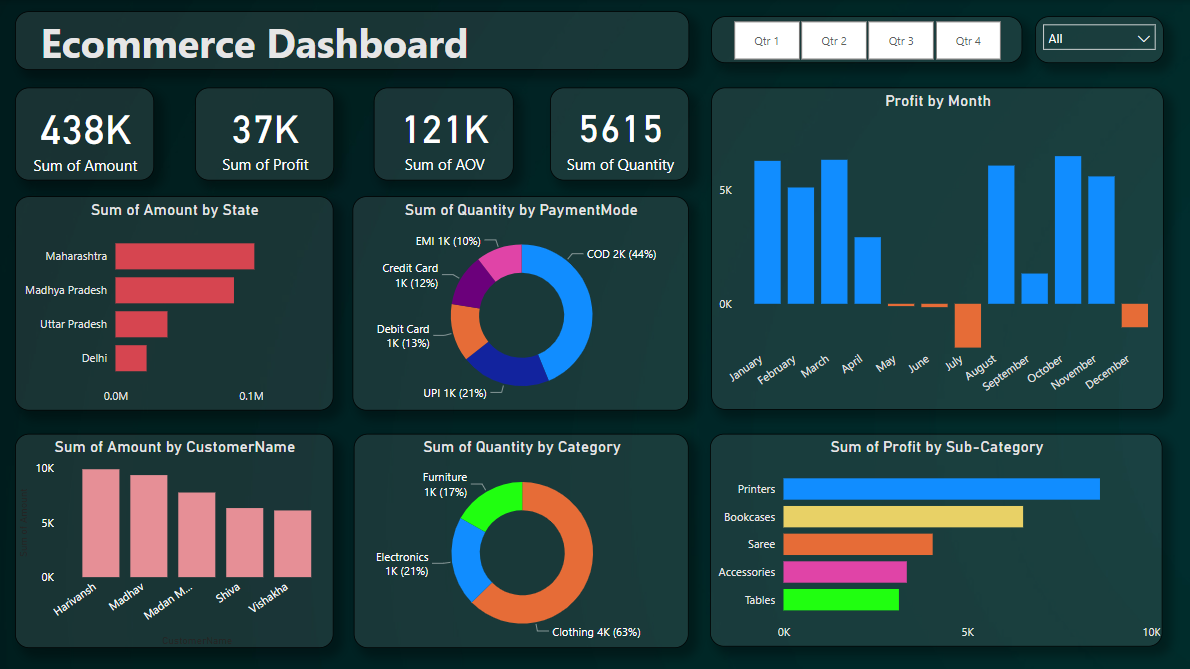

What the dashboard file says about the page in this screenshot:
{"tool":"powerbi","page":{"name":"Page 1","canvas":[1280,720],"ordinal":0},"visuals":[{"type":"clusteredColumnChart","title":"Profit by Month","fields":{"Category":["Orders.Order Date.Variation.Date Hierarchy.Month"],"Y":["Sum(Details.Profit)"]},"box":[764.4,94.5,486.3,346.6],"z":0},{"type":"barChart","fields":{"Category":["Details.Sub-Category"],"Y":["Sum(Details.Profit)"]},"box":[763,465.8,486.3,228.8],"z":1000},{"type":"donutChart","fields":{"Category":["Details.Category"],"Y":["Sum(Details.Quantity)"]},"box":[380.8,465.8,360.3,230.1],"z":2000},{"type":"donutChart","fields":{"Y":["Sum(Details.Quantity)"],"Category":["Details.PaymentMode"]},"box":[379.5,211,361.6,230.1],"z":3000},{"type":"card","fields":{"Values":["Sum(Details.Amount)"]},"box":[16.4,94.5,149.3,100],"z":4000},{"type":"card","fields":{"Values":["Sum(Details.Profit)"]},"box":[209.6,94.5,149.3,100],"z":5000},{"type":"card","fields":{"Values":["Sum(Details.Quantity)"]},"box":[591.8,94.5,149.3,100],"z":6000},{"type":"card","fields":{"Values":["Sum(Details.AOV)"]},"box":[401.4,94.5,150.7,100],"z":7000},{"type":"barChart","fields":{"Category":["Orders.State"],"Y":["Sum(Details.Amount)"]},"box":[16.4,211,342.5,230.1],"z":8000},{"type":"columnChart","fields":{"Category":["Orders.CustomerName"],"Y":["Sum(Details.Amount)"]},"box":[16.4,465.8,342.5,230.1],"z":9000},{"type":"textbox","box":[16.4,12.3,724.7,63],"z":10000},{"type":"slicer","fields":{"Values":["Orders.Order Date.Variation.Date Hierarchy.Quarter"]},"box":[764.4,17.8,334.2,50.7],"z":11000},{"type":"slicer","fields":{"Values":["Orders.State"]},"box":[1112.3,17.8,138.4,50.7],"z":12000}]}

Visuals, with their boxes in screenshot pixels (x1, y1, x2, y2), scaled from the page's 1280x720 canvas onto the 1190x669 screenshot:
"Profit by Month" clusteredColumnChart: 711 88 1163 410
barChart - Details.Sub-Category x Sum(Details.Profit): 709 433 1161 645
donutChart - Details.Category x Sum(Details.Quantity): 354 433 689 647
donutChart - Sum(Details.Quantity) x Details.PaymentMode: 353 196 689 410
card - Sum(Details.Amount): 15 88 154 181
card - Sum(Details.Profit): 195 88 334 181
card - Sum(Details.Quantity): 550 88 689 181
card - Sum(Details.AOV): 373 88 513 181
barChart - Orders.State x Sum(Details.Amount): 15 196 334 410
columnChart - Orders.CustomerName x Sum(Details.Amount): 15 433 334 647
textbox: 15 11 689 70
slicer - Orders.Order Date.Variation.Date Hierarchy.Quarter: 711 17 1021 64
slicer - Orders.State: 1034 17 1163 64
